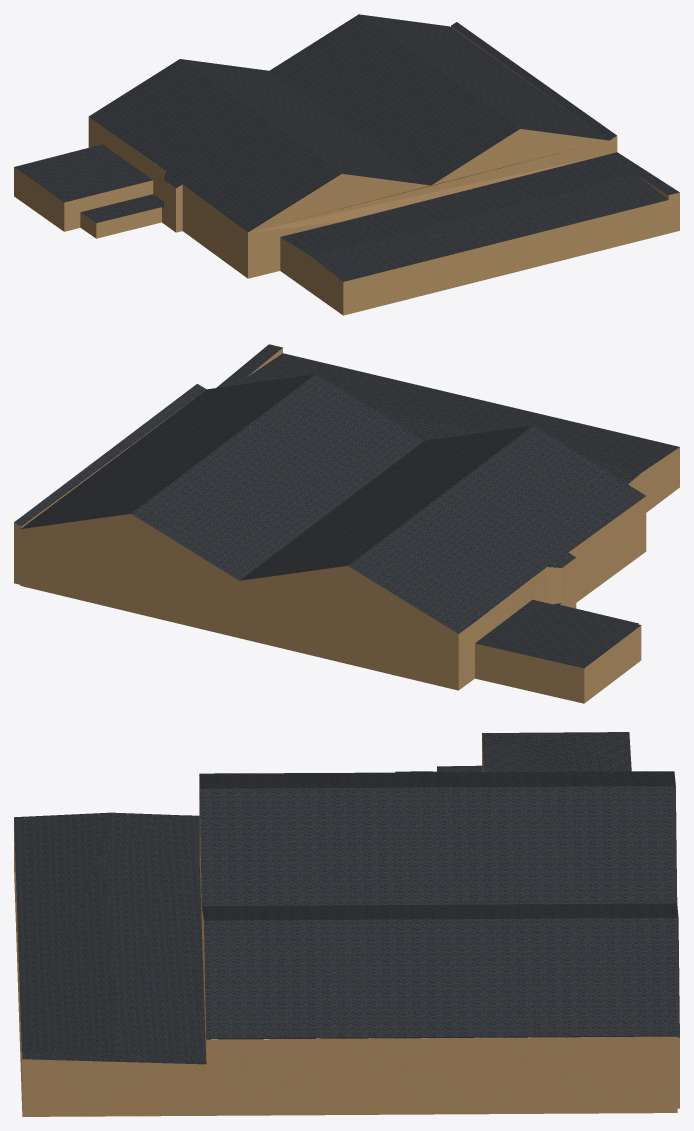
The picture shows the model from 3 angles, top to bottom: view 1: azimuth 30°, elevation 25°; view 2: azimuth 150°, elevation 25°; view 3: azimuth 270°, elevation 25°; orthographic projection. The views are drawn at different scales.
Visible parts, largest first — view 1: bldg_6008404310_roof, bldg_6008404310; view 2: bldg_6008404310_roof, bldg_6008404310; view 3: bldg_6008404310_roof, bldg_6008404310.
Boxes of the visible parts, box(x1,y1,x2,y2) form: bldg_6008404310_roof: box(14, 14, 679, 281); bldg_6008404310: box(14, 26, 679, 315); bldg_6008404310_roof: box(14, 344, 679, 668); bldg_6008404310: box(14, 348, 679, 703); bldg_6008404310_roof: box(14, 732, 679, 1064); bldg_6008404310: box(14, 736, 679, 1116).
Size of what is drawn, in the model's own units: 129 by 21.77 by 106.
Materials: 2 (2 with a texture image).
